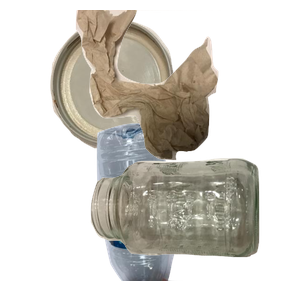glass: (88, 156, 300, 300)
metal: (47, 16, 214, 157)
plastic: (94, 120, 267, 300)
trash: (73, 10, 300, 163)
